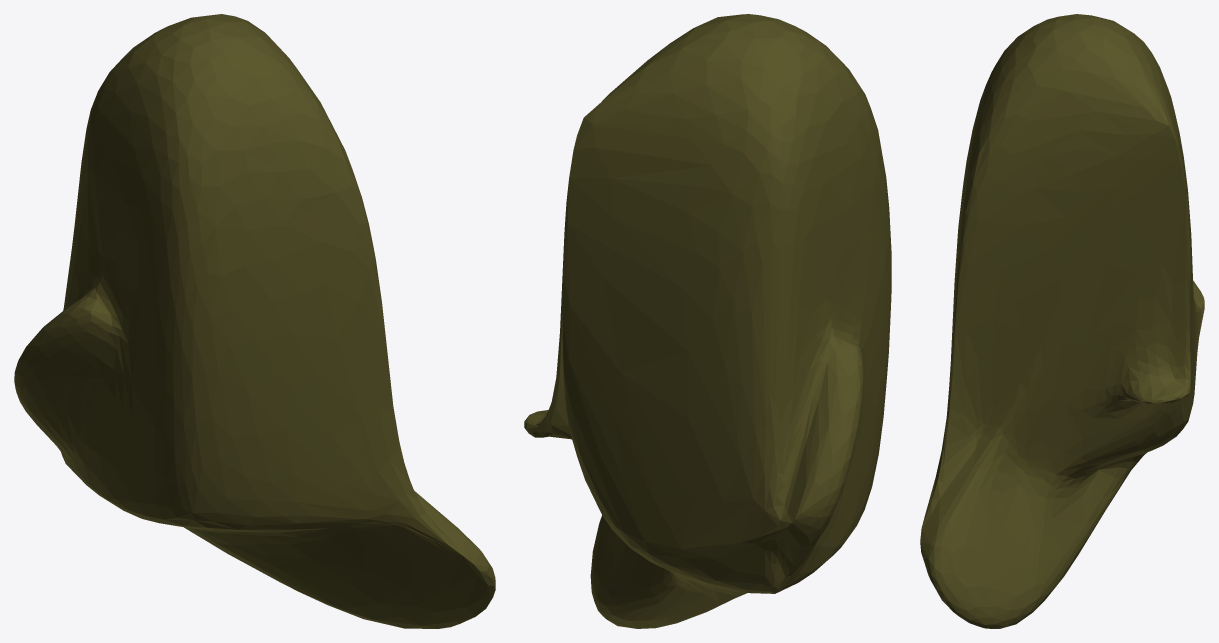
3 views of the same model, side by side, from view 1: azimuth 30°, elevation 25°; view 2: azimuth 150°, elevation 25°; view 3: azimuth 270°, elevation 25° (orthographic). The views are drawn at different scales.
Parts seen in each view (by area): view 1: 456_Cube.1847; view 2: 456_Cube.1847; view 3: 456_Cube.1847.
Boxes of the visible parts, x1,y1,x2,y2 form: 456_Cube.1847: (14,14,495,628); 456_Cube.1847: (524,14,891,628); 456_Cube.1847: (920,14,1204,628).
Bounding box in the file's own units: 8.64 × 14.59 × 7.06.
